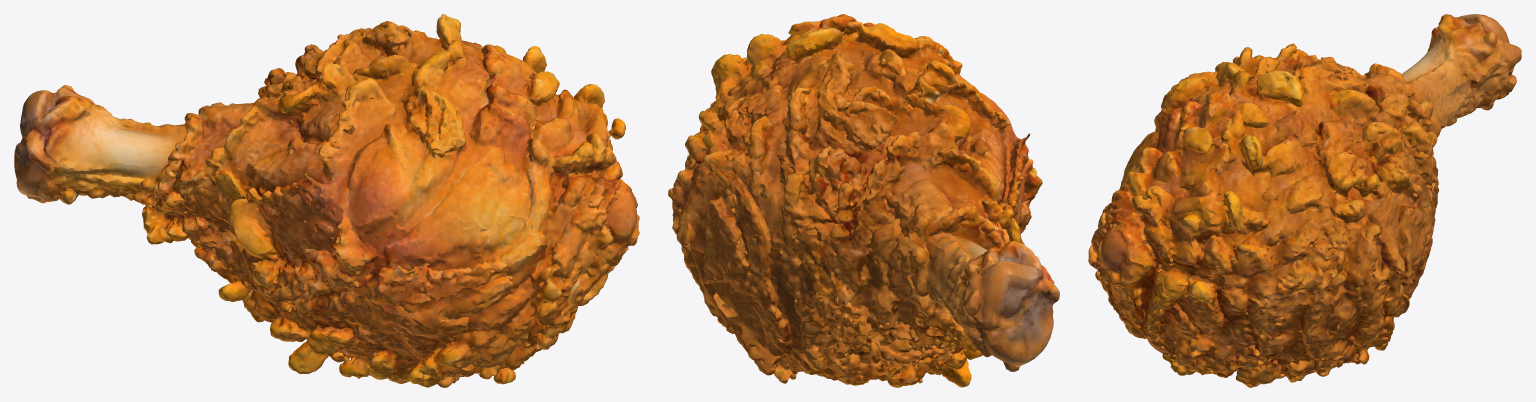
Rendered from crispy-chicken-0.glb.
3 views of the same model, side by side, from view 1: azimuth 30°, elevation 25°; view 2: azimuth 150°, elevation 25°; view 3: azimuth 270°, elevation 25° (orthographic). The views are drawn at different scales.
Parts seen in each view (by area): view 1: FoodRedoV2Alignment-0; view 2: FoodRedoV2Alignment-0; view 3: FoodRedoV2Alignment-0.
Boxes of the visible parts, x1,y1,x2,y2 form: FoodRedoV2Alignment-0: (14, 14, 639, 387); FoodRedoV2Alignment-0: (668, 14, 1059, 387); FoodRedoV2Alignment-0: (1088, 14, 1521, 387).
Size of the model in its own units: 0.1318 by 0.0919 by 0.1166.
Materials: 1 (1 with a texture image).
